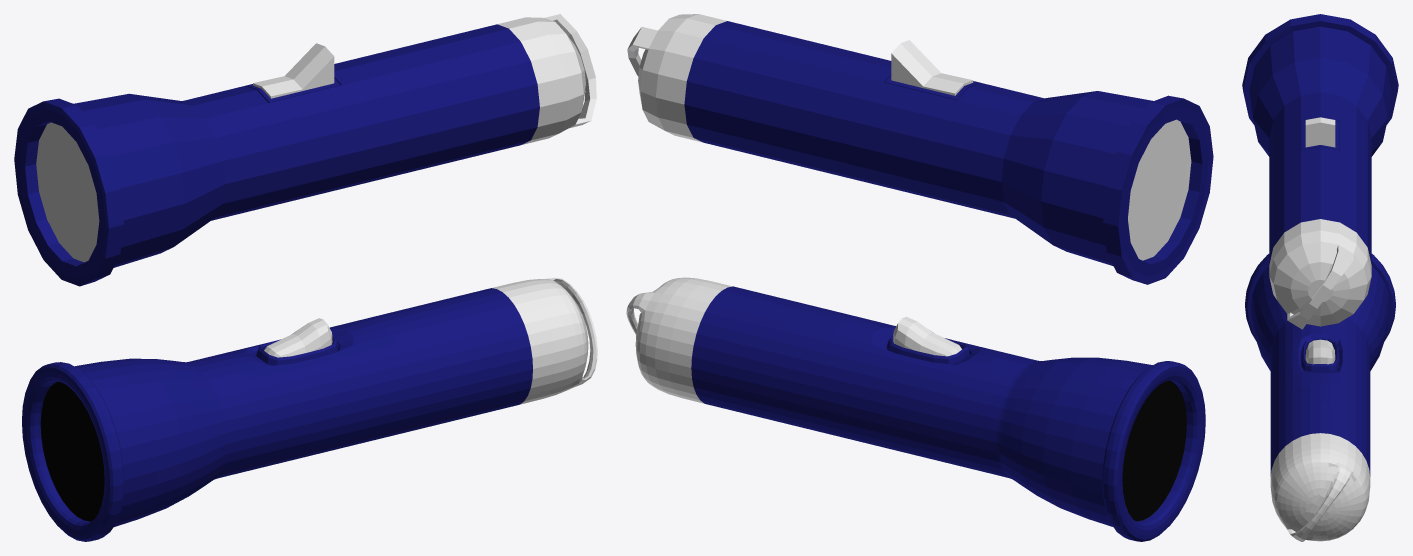
The model's file is Linterna(Prueba).fbx.
3 renders of one model, left to right at view 1: azimuth 30°, elevation 25°; view 2: azimuth 150°, elevation 25°; view 3: azimuth 270°, elevation 25°, orthographic. The views are drawn at different scales.
Parts seen in each view (by area): view 1: Cilindro.001, Cilindro; view 2: Cilindro.001, Cilindro; view 3: Cilindro.001, Cilindro.
Part boxes in pixels (x1,y1,x2,y2): Cilindro.001: [14, 14, 596, 286]; Cilindro: [22, 277, 597, 541]; Cilindro.001: [627, 14, 1213, 284]; Cilindro: [626, 277, 1205, 541]; Cilindro.001: [1242, 14, 1398, 329]; Cilindro: [1245, 254, 1395, 541].
Bounding box in the file's own units: 206 × 160 × 63.81.
